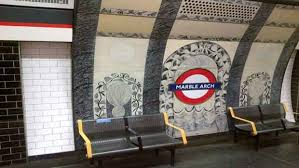London Underground: (169, 66, 222, 107)
